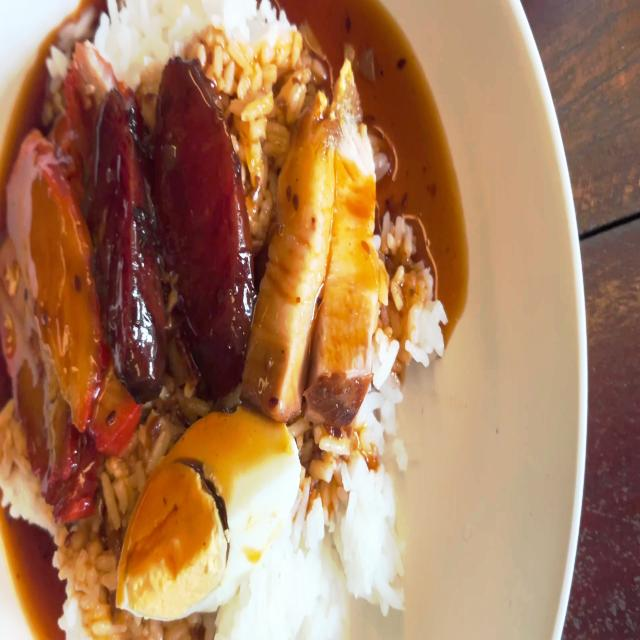boiled_egg: (115, 412, 299, 612)
chainese_sausage: (109, 84, 241, 378), (152, 47, 249, 390), (99, 84, 158, 372)
crispy_pork: (257, 59, 376, 439), (250, 98, 341, 396), (312, 70, 381, 382)
red_pork: (0, 104, 127, 500), (0, 139, 91, 394), (78, 40, 119, 124)
red_pork_and_crispy_pork: (0, 0, 445, 640)
rice: (275, 430, 405, 624), (70, 0, 306, 74), (56, 516, 119, 640)
